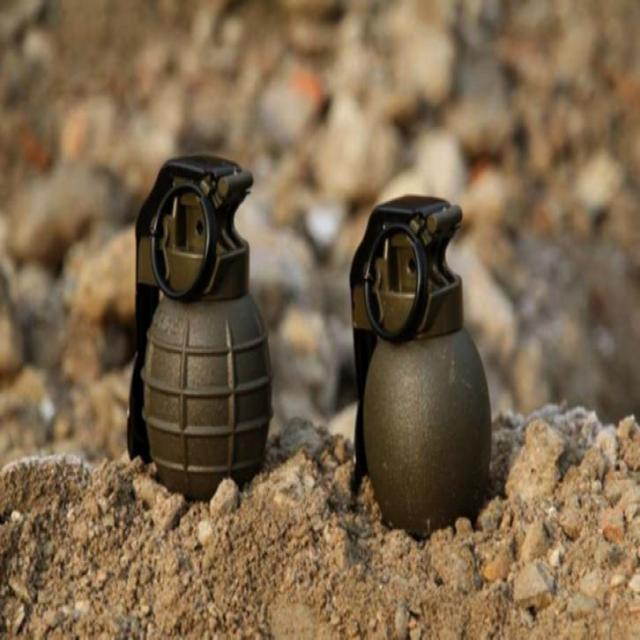grenade: (352, 198, 498, 544), (134, 157, 275, 505)
